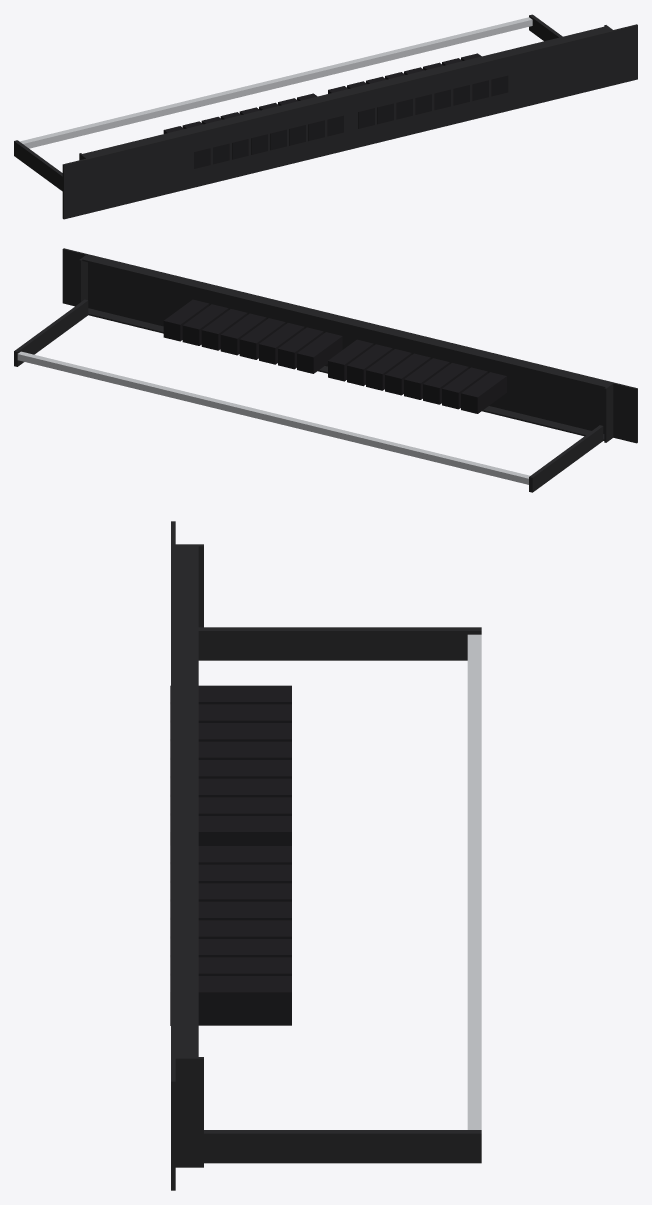
The model's file is PP-RJ45-16.far.glb.
3 renders of one model, top to bottom at view 1: azimuth 30°, elevation 25°; view 2: azimuth 150°, elevation 25°; view 3: azimuth 270°, elevation 25°, orthographic. The views are drawn at different scales.
Visible parts, largest first — view 1: PP-RJ45-16_Body_far; view 2: PP-RJ45-16_Body_far; view 3: PP-RJ45-16_Body_far.
Part boxes in pixels (x1=…): PP-RJ45-16_Body_far: x1=14, y1=14, x2=637, y2=219; PP-RJ45-16_Body_far: x1=14, y1=248, x2=637, y2=492; PP-RJ45-16_Body_far: x1=170, y1=521, x2=481, y2=1190.
Size of the model in its own units: 0.4826 by 0.0437 by 0.1133.
Materials: 1 (1 with a texture image).
